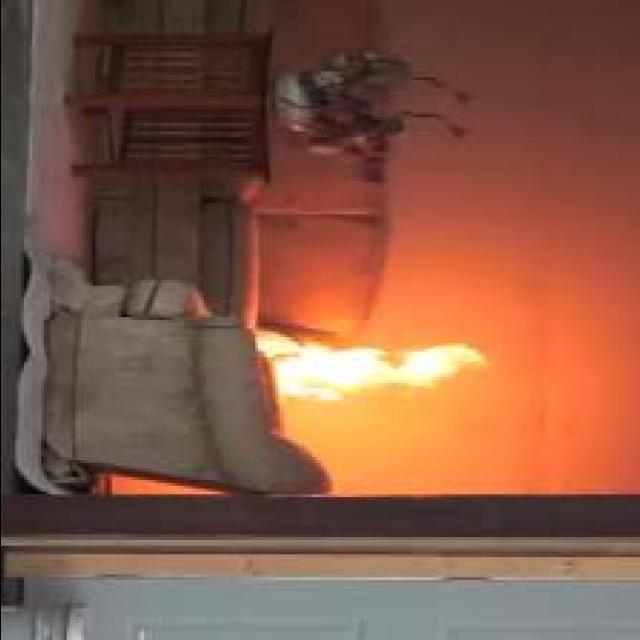Fire: (255, 328, 482, 401)
